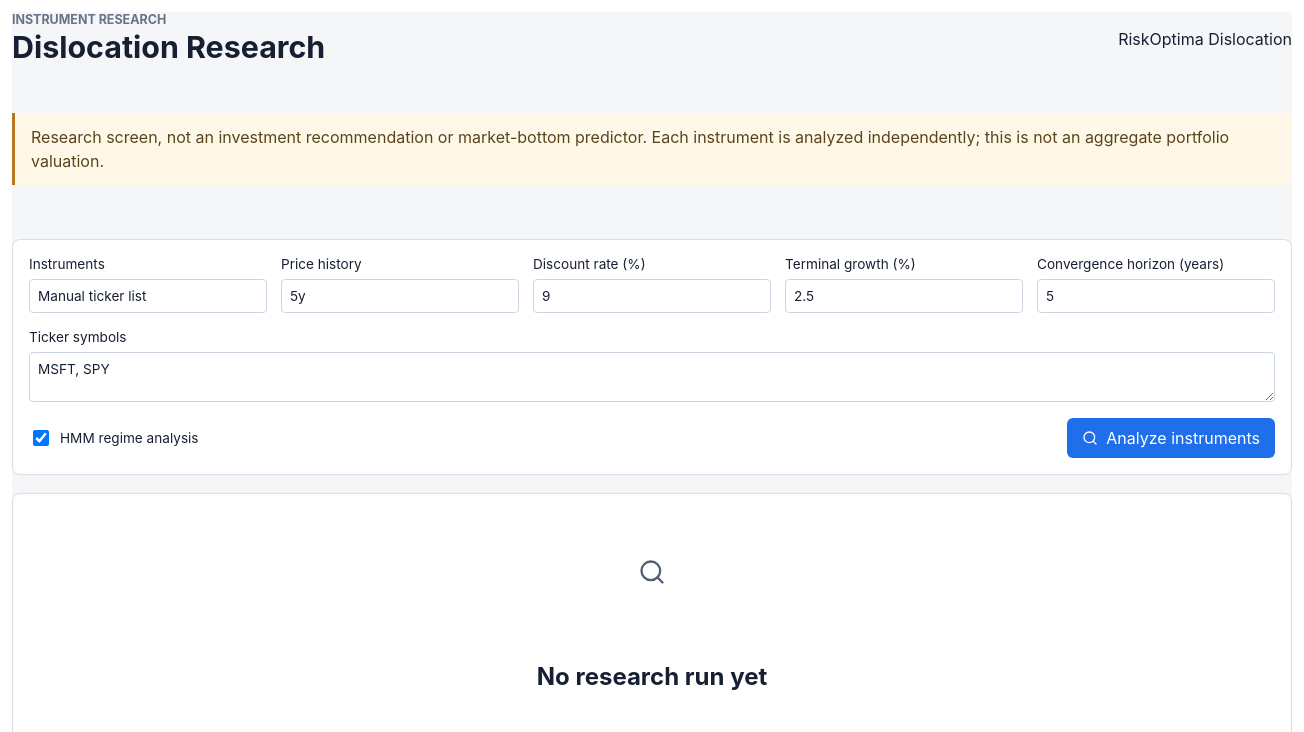
Test: Dislocation Research › hides corporate DCF for funds and keeps version branding
Click the button "Analyze instruments": {"x": 1171, "y": 438} [1067,418,1275,458]
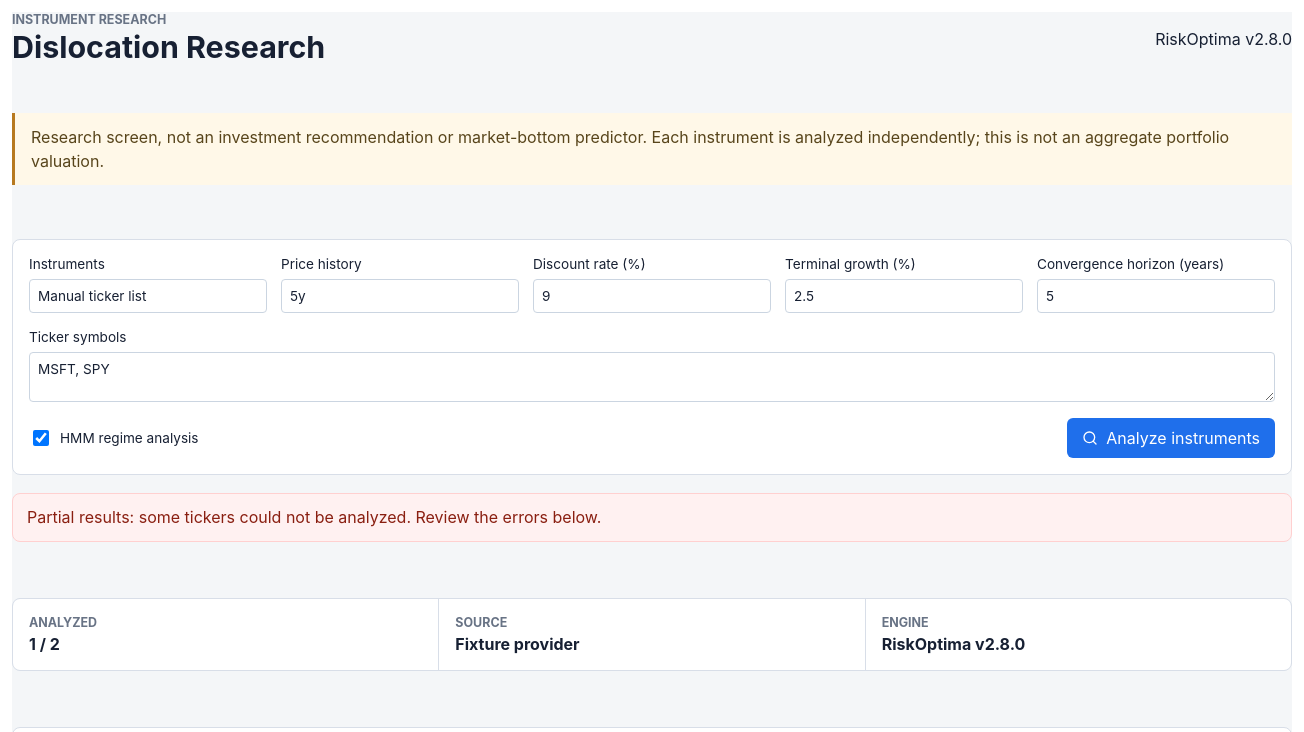
Check: the text "RiskOptima v2.8.0" in the row of "Dislocation Research" is shown, box [1155,28,1292,48]
